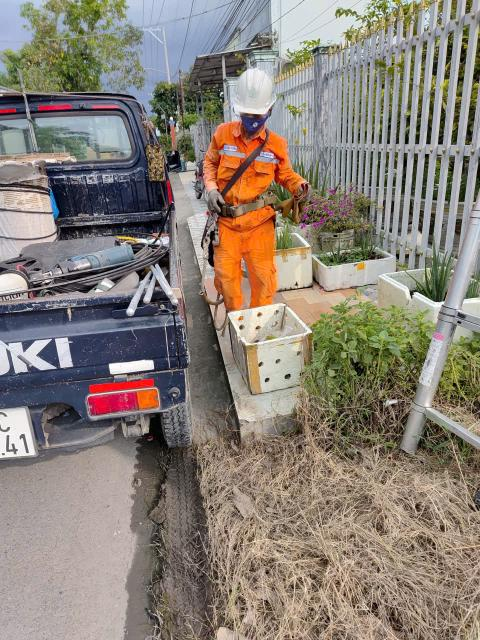gloves: (298, 184, 317, 212), (206, 191, 227, 213)
harness: (203, 192, 291, 219)
helmet: (224, 69, 283, 118)
